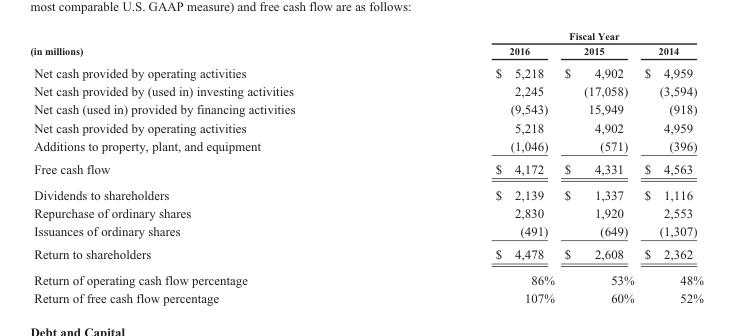table: (29, 29, 702, 304)
table column: (29, 29, 394, 304), (394, 29, 558, 304), (558, 29, 638, 304), (638, 29, 702, 304)
table column header: (29, 29, 702, 61)
table row: (29, 156, 702, 181), (29, 242, 702, 266), (29, 181, 702, 203), (29, 266, 702, 288), (29, 61, 702, 82), (29, 221, 702, 242), (29, 136, 702, 156), (29, 42, 702, 61), (29, 82, 702, 100), (29, 100, 702, 118), (29, 118, 702, 136), (29, 203, 702, 221), (29, 288, 702, 304), (29, 29, 702, 42)
table spanning cell: (29, 29, 394, 61), (394, 29, 702, 42)
